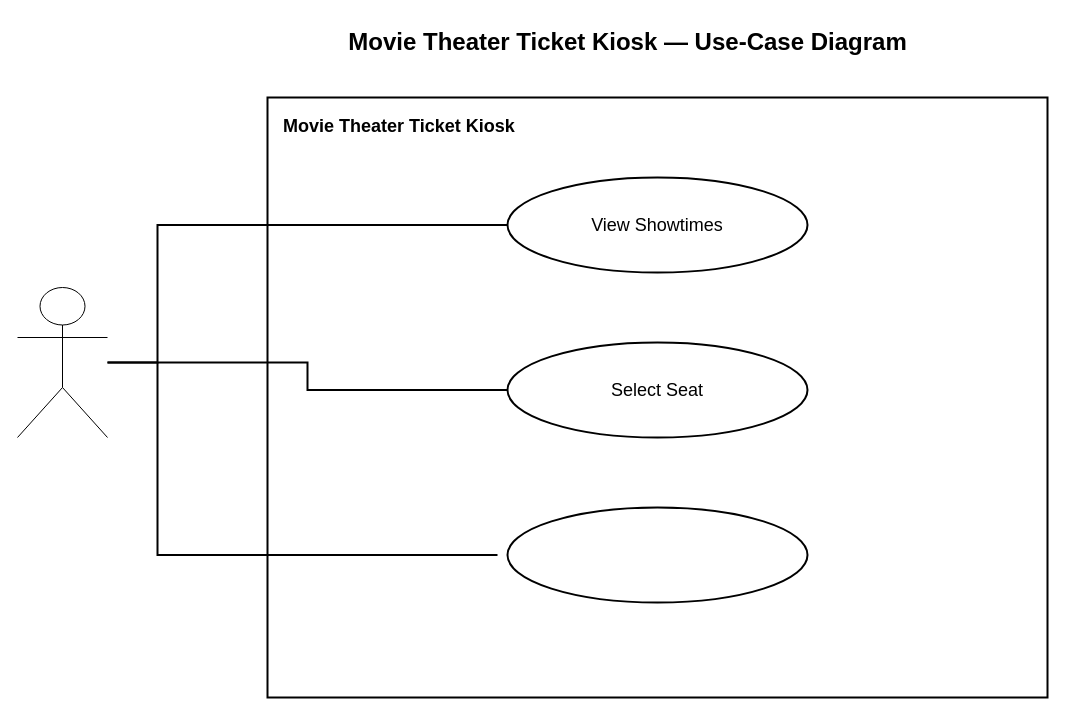
The diagram is 1066 pixels wide and 715 high, and some of its shapes have lost their labels. The shapes that lost their labels are listed below. From the top down, each one's centre as x and y in pixels, then its label:
pixel 62 362: Customer
pixel 657 554: Purchase Ticket
